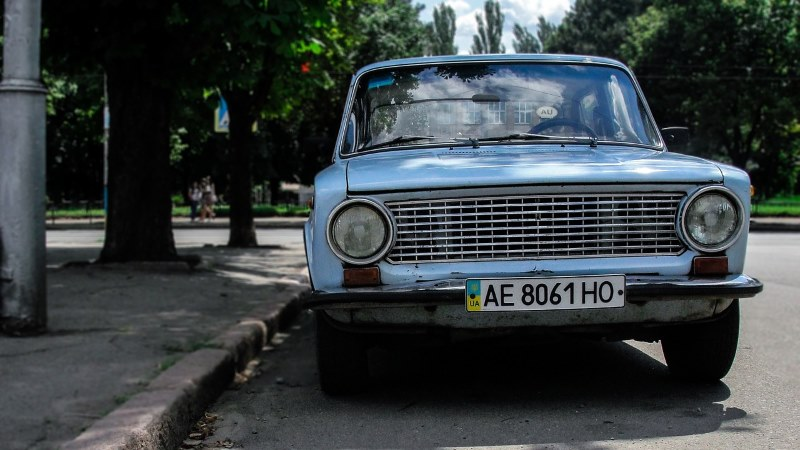car: (303, 47, 756, 381)
